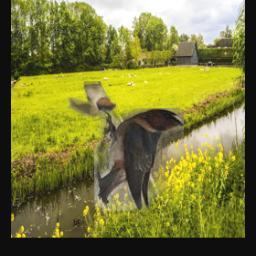Swallow: (94, 108, 184, 211), (69, 82, 117, 118)
